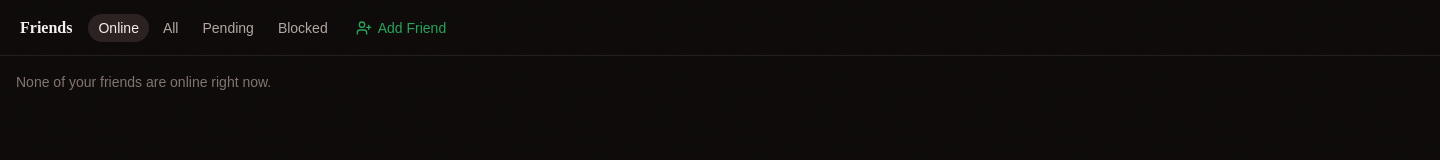
Scenario: FriendsPage › offers unblock, and nothing else, for someone you blocked
Click the button "Blocked".
click(303, 28)  # box [268,14,338,42]
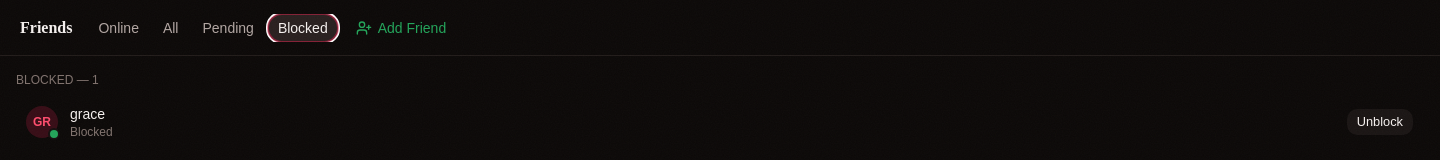
Check: the button "Unblock" is shown, box [1346,108,1414,136]
